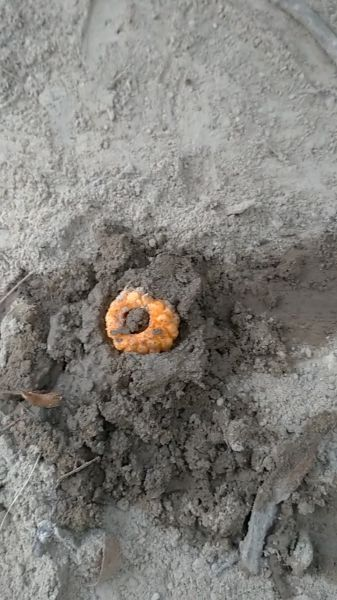eggs: (100, 284, 188, 364)
